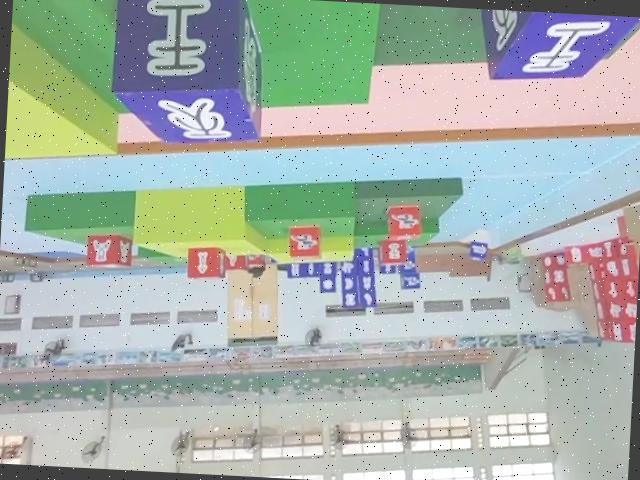R2 Fake Blue: (104, 0, 269, 151)
R2 Real Blue: (471, 7, 640, 87)
